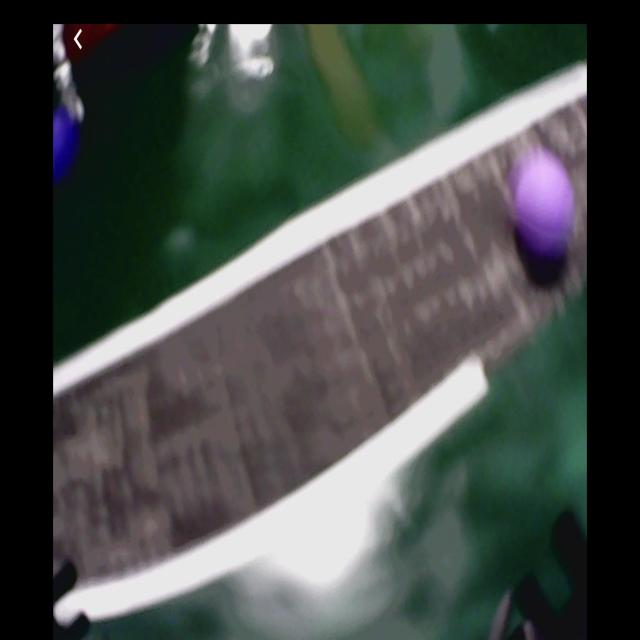ball: (516, 161, 576, 261), (55, 110, 77, 184)
